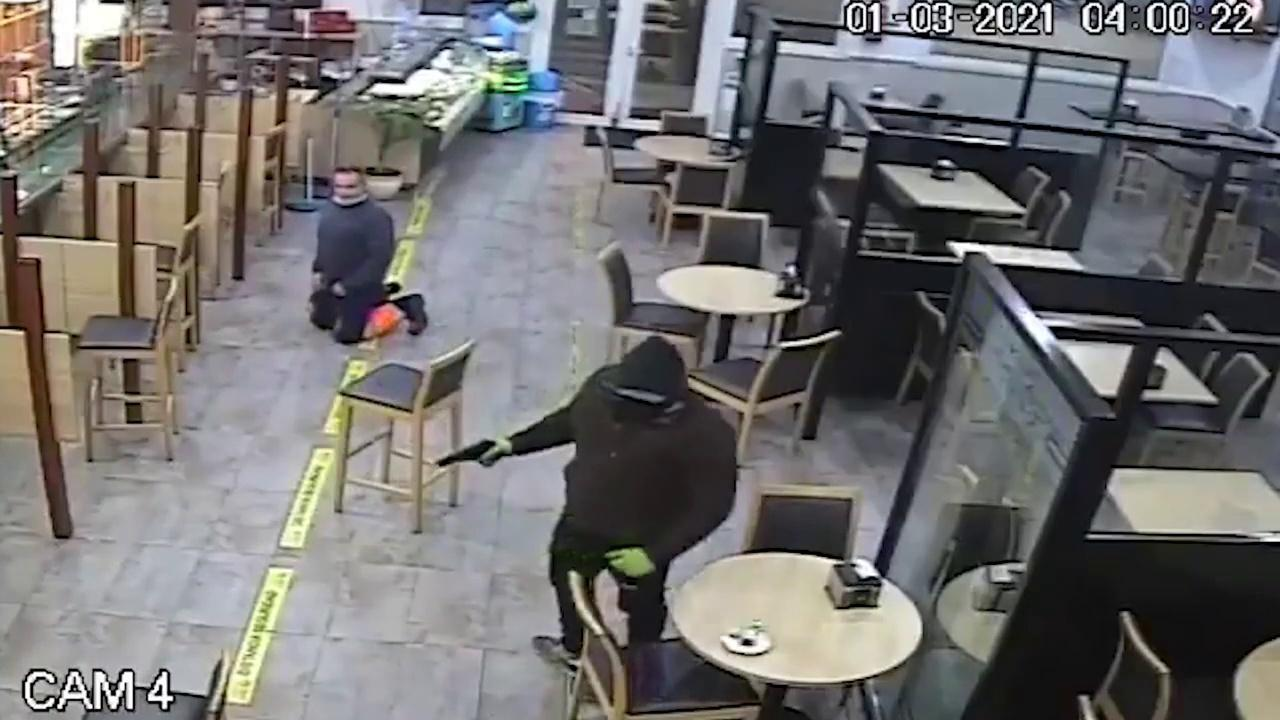Guns: (410, 429, 540, 493)
